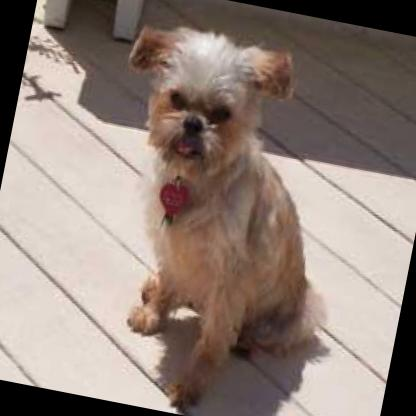affenpinscher: (60, 15, 374, 416)
